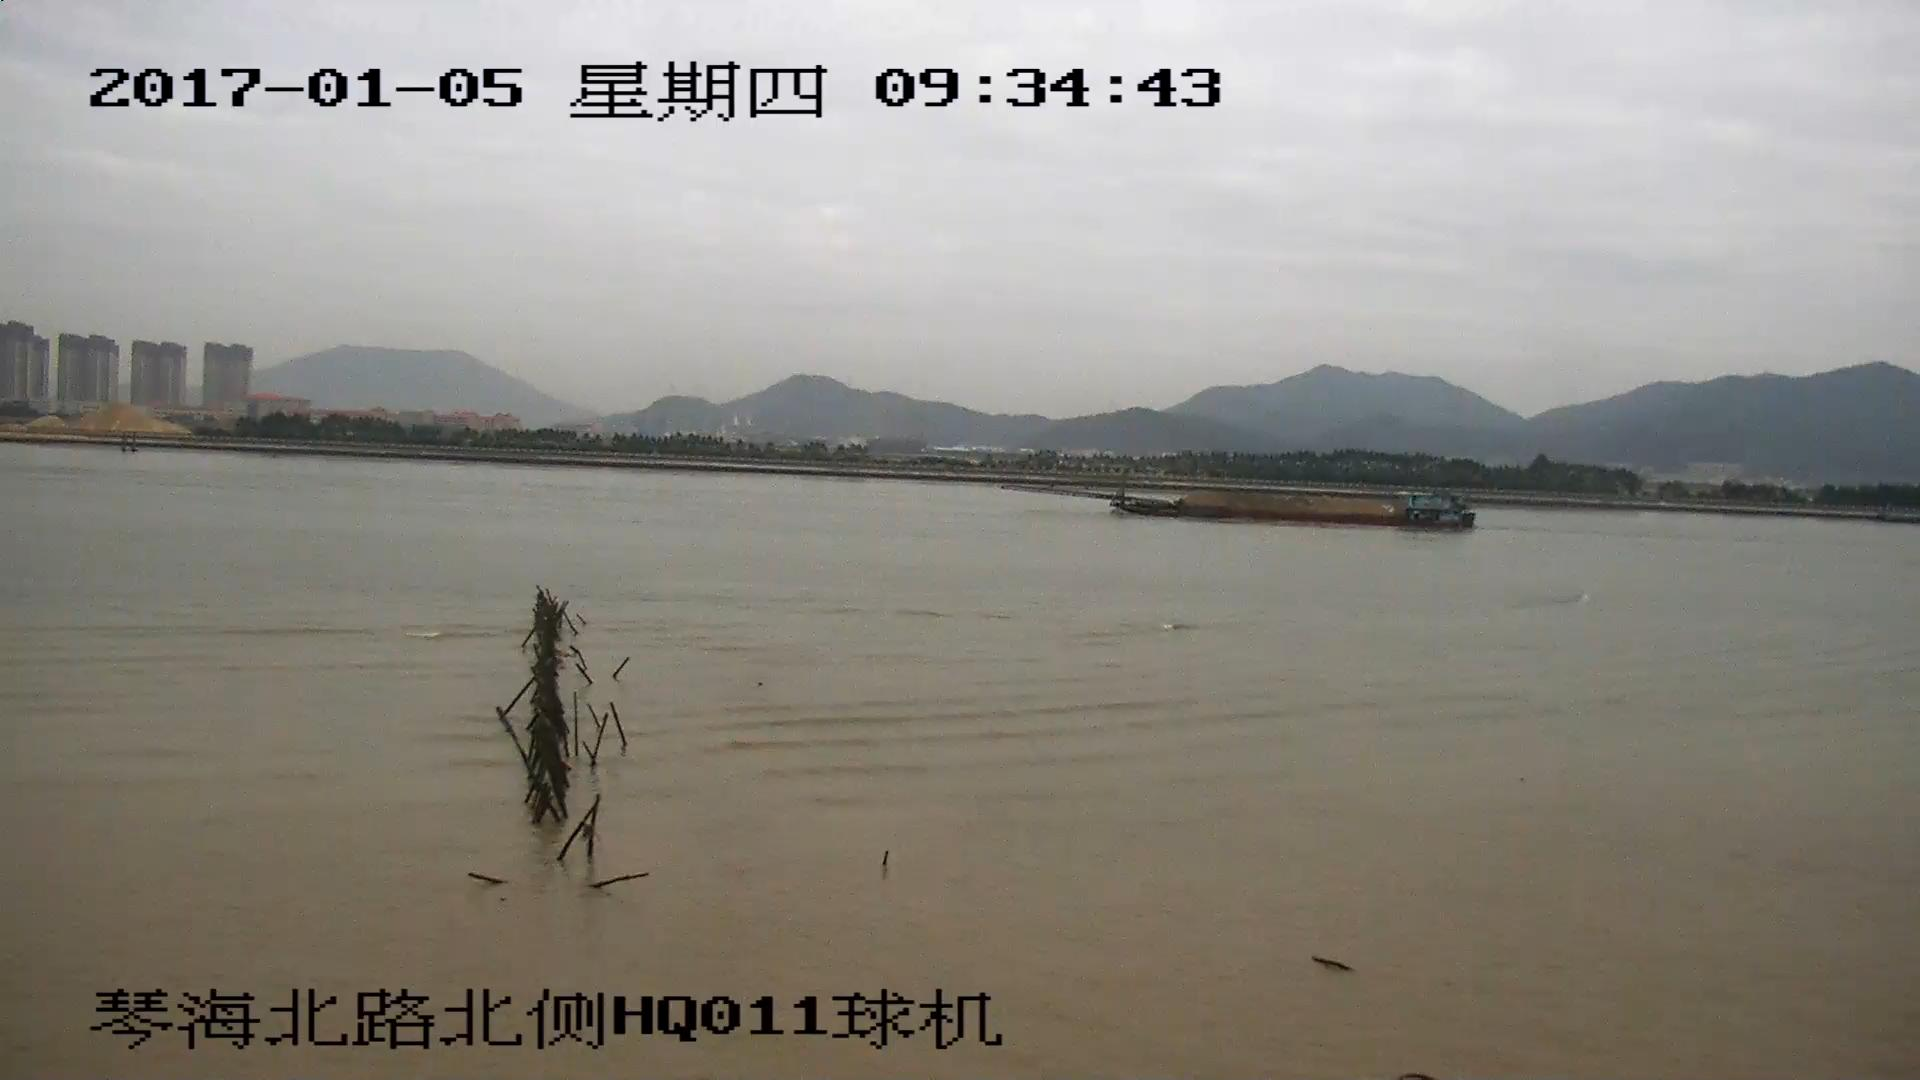ore carrier: (1016, 474, 1470, 530)
